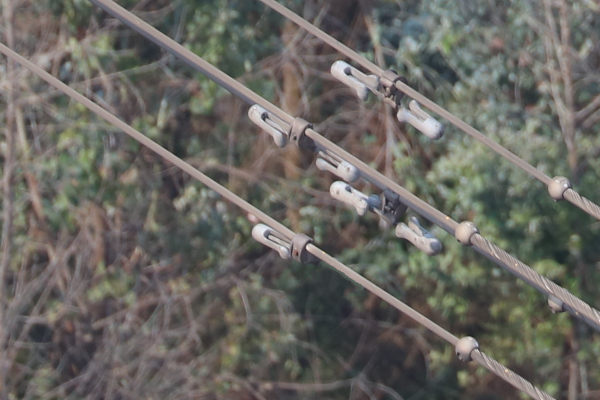damper: (326, 49, 444, 139), (326, 176, 444, 256), (245, 99, 361, 180)
damper_defect: (246, 217, 314, 266)
